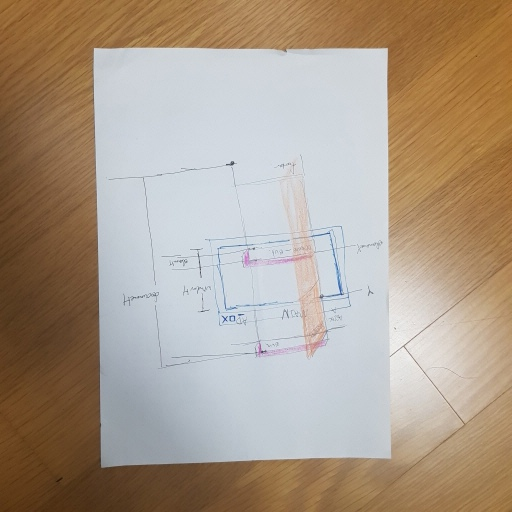Paper_2: (78, 37, 410, 478)
